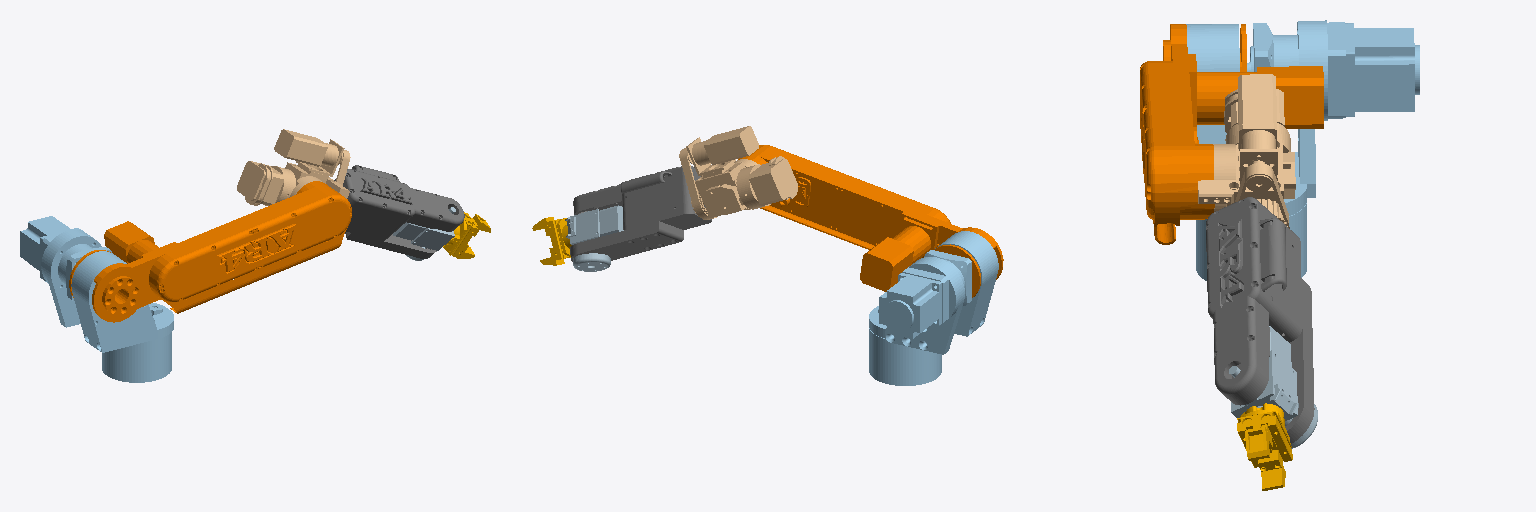
The robot description file, URDF, robot "annin_ar4":
<?xml version="1.0" ?>
<!-- Generated using onshape-to-robot -->
<!-- Onshape https://cad.onshape.com/documents/71a6e6ac5054656ec8ae7be3/w/15da3de6b39094e09f55dc5d/e/b69991727d685d56a05e7c46 -->
<robot name="annin_ar4">
  <!-- Link baseplate -->
  <link name="baseplate">
    <inertial>
      <origin xyz="0 0 0" rpy="0 0 0"/>
      <mass value="1"/>
      <inertia ixx="0" ixy="0" ixz="0" iyy="0" iyz="0" izz="0"/>
    </inertial>
    <!-- Part baseplate_parts -->
    <visual>
      <origin xyz="-0.0994665 0.0173301 0.0783025" rpy="0 -0 0"/>
      <geometry>
        <mesh filename="package://annin_ar4_description/meshes/merged/baseplate_visual.stl"/>
      </geometry>
      <material name="baseplate_parts_material">
        <color rgba="0.600346 0.770857 0.873164 1"/>
      </material>
    </visual>
  </link>
  <!-- Link base_turret_housing -->
  <link name="base_turret_housing">
    <inertial>
      <origin xyz="-0.0463965 -0.0242033 -0.108439" rpy="0 0 0"/>
      <mass value="2.54104"/>
      <inertia ixx="0.011247" ixy="-0.00137444" ixz="-0.00253118" iyy="0.00796204" iyz="-0.00249889" izz="0.00908202"/>
    </inertial>
    <!-- Part base_turret_housing_parts -->
    <visual>
      <origin xyz="-0.0463965 -0.0242033 -0.108439" rpy="3.14159 5.93e-10 0"/>
      <geometry>
        <mesh filename="package://annin_ar4_description/meshes/merged/base_turret_housing_visual.stl"/>
      </geometry>
      <material name="base_turret_housing_parts_material">
        <color rgba="0.657064 0.826274 0.9278 1"/>
      </material>
    </visual>
  </link>
  <!-- Link link_2_part -->
  <link name="link_2_part">
    <inertial>
      <origin xyz="-0.00116151 0.132932 0.00571963" rpy="0 0 0"/>
      <mass value="0.825114"/>
      <inertia ixx="0.00889311" ixy="7.73405e-05" ixz="-3.25413e-05" iyy="0.00144092" iyz="0.00126456" izz="0.00802357"/>
    </inertial>
    <!-- Part link_2_part_parts -->
    <visual>
      <origin xyz="-0.00116151 0.132932 0.00571963" rpy="1.5708 0.0215588 1.71453"/>
      <geometry>
        <mesh filename="package://annin_ar4_description/meshes/merged/link_2_part_visual.stl"/>
      </geometry>
      <material name="link_2_part_parts_material">
        <color rgba="0.972549 0.529412 0.00392157 1"/>
      </material>
    </visual>
  </link>
  <!-- Link link_6_motor -->
  <link name="link_6_motor">
    <inertial>
      <origin xyz="0.0197598 5.56097e-05 -0.0315536" rpy="0 0 0"/>
      <mass value="0.841792"/>
      <inertia ixx="0.00124667" ixy="-0.000204798" ixz="6.32921e-05" iyy="0.000894058" iyz="2.48385e-05" izz="0.00171936"/>
    </inertial>
    <!-- Part link_6_motor_parts -->
    <visual>
      <origin xyz="0.0197598 5.56097e-05 -0.0315536" rpy="-1.5708 -0.0215588 -1.71453"/>
      <geometry>
        <mesh filename="package://annin_ar4_description/meshes/merged/link_6_motor_visual.stl"/>
      </geometry>
      <material name="link_6_motor_parts_material">
        <color rgba="0.92179 0.779841 0.611513 1"/>
      </material>
    </visual>
  </link>
  <!-- Link endeffector_part -->
  <link name="endeffector_part">
    <inertial>
      <origin xyz="0.00100316 0.00252412 -0.083018" rpy="0 0 0"/>
      <mass value="0.712121"/>
      <inertia ixx="0.0022091" ixy="-0.000150932" ixz="-5.41463e-05" iyy="0.00207453" iyz="-9.35525e-05" izz="0.000725561"/>
    </inertial>
    <!-- Part endeffector_part_parts -->
    <visual>
      <origin xyz="0.00100316 0.00252412 -0.083018" rpy="-0.0442752 1.11747 1.52155"/>
      <geometry>
        <mesh filename="package://annin_ar4_description/meshes/merged/endeffector_part_visual.stl"/>
      </geometry>
      <material name="endeffector_part_parts_material">
        <color rgba="0.498039 0.498039 0.498039 1"/>
      </material>
    </visual>
  </link>
  <!-- Link gripper_motor -->
  <link name="gripper_motor">
    <inertial>
      <origin xyz="-0.014351 -0.00023186 0.0474159" rpy="0 0 0"/>
      <mass value="0.314103"/>
      <inertia ixx="0.000122328" ixy="1.55585e-06" ixz="-1.85202e-05" iyy="0.00021925" iyz="-4.99692e-07" izz="0.000172846"/>
    </inertial>
    <!-- Part gripper_motor_parts -->
    <visual>
      <origin xyz="-0.014351 -0.00023186 0.0474159" rpy="2.47953 0.378016 -0.256483"/>
      <geometry>
        <mesh filename="package://annin_ar4_description/meshes/merged/gripper_motor_visual.stl"/>
      </geometry>
      <material name="gripper_motor_parts_material">
        <color rgba="0.69002 0.773489 0.820789 1"/>
      </material>
    </visual>
  </link>
  <!-- Link gripper_part -->
  <link name="gripper_part">
    <inertial>
      <origin xyz="6.26549e-06 0.000241513 -0.0230231" rpy="0 0 0"/>
      <mass value="0.115892"/>
      <inertia ixx="2.78554e-05" ixy="-7.6839e-08" ixz="-1.941e-09" iyy="4.28172e-05" iyz="-5.34906e-07" izz="3.11918e-05"/>
    </inertial>
    <!-- Part gripper_part_parts -->
    <visual>
      <origin xyz="6.26549e-06 0.000241513 -0.0230231" rpy="-0.040189 1.11632 -2.89739"/>
      <geometry>
        <mesh filename="package://annin_ar4_description/meshes/merged/gripper_part_visual.stl"/>
      </geometry>
      <material name="gripper_part_parts_material">
        <color rgba="0.980392 0.713725 0.00392157 1"/>
      </material>
    </visual>
  </link>
  <!-- Joint from gripper_motor to gripper_part -->
  <joint name="endeffector" type="revolute">
    <origin xyz="0.019 4.04422e-05 0.0433" rpy="-1.5708 -1.24286 1.57292"/>
    <parent link="gripper_motor"/>
    <child link="gripper_part"/>
    <axis xyz="0 0 1"/>
    <limit effort="10" velocity="10" lower="-3.141592653589793" upper="3.141592653589793"/>
  </joint>
  <!-- Joint from endeffector_part to gripper_motor -->
  <joint name="endeffector_mount" type="revolute">
    <origin xyz="0.0254835 0.0358691 -0.172" rpy="2.18851 1.5708 0"/>
    <parent link="endeffector_part"/>
    <child link="gripper_motor"/>
    <axis xyz="0 0 1"/>
    <limit effort="10" velocity="10" lower="-2.09652" upper="2.09227"/>
  </joint>
  <!-- Joint from link_6_motor to endeffector_part -->
  <joint name="link3_to_end_effector_mount" type="revolute">
    <origin xyz="-0.0284498 -0.0418916 -0.0362" rpy="-2.16738 -1.5708 0"/>
    <parent link="link_6_motor"/>
    <child link="endeffector_part"/>
    <axis xyz="0 0 1"/>
    <limit effort="10" velocity="10" lower="-3.141592653589793" upper="3.141592653589793"/>
  </joint>
  <!-- Joint from link_2_part to link_6_motor -->
  <joint name="link2_to_link3" type="revolute">
    <origin xyz="0 0.305 0.015" rpy="3.14159 -0 0"/>
    <parent link="link_2_part"/>
    <child link="link_6_motor"/>
    <axis xyz="0 0 1"/>
    <limit effort="10" velocity="10" lower="-3.141592653589793" upper="3.141592653589793"/>
  </joint>
  <!-- Joint from base_turret_housing to link_2_part -->
  <joint name="link1_to_link2" type="revolute">
    <origin xyz="-0.0630431 0.0518211 -0.143075" rpy="-1.5708 1.42706 3.12003"/>
    <parent link="base_turret_housing"/>
    <child link="link_2_part"/>
    <axis xyz="0 0 1"/>
    <limit effort="10" velocity="10" lower="-3.141592653589793" upper="3.141592653589793"/>
  </joint>
  <!-- Joint from baseplate to base_turret_housing -->
  <joint name="base_to_link1" type="revolute">
    <origin xyz="0.0716069 0.0168825 0.0570797" rpy="-3.14159 5.93e-10 0"/>
    <parent link="baseplate"/>
    <child link="base_turret_housing"/>
    <axis xyz="0 0 1"/>
    <limit effort="10" velocity="10" lower="-3.141592653589793" upper="3.141592653589793"/>
  </joint>
</robot>

--- Render facts (derived) ---
3 views of the same robot in one strip: view 1: azimuth 30°, elevation 25°; view 2: azimuth 150°, elevation 25°; view 3: azimuth 270°, elevation 25° (orthographic).
Robot: annin_ar4 — 7 links, 6 joints (6 revolute); root link baseplate; default pose: all joints at 0.
Visible links, largest first — view 1: link_2_part, base_turret_housing, endeffector_part, link_6_motor, gripper_motor, gripper_part; view 2: link_2_part, base_turret_housing, link_6_motor, endeffector_part, gripper_motor, gripper_part; view 3: endeffector_part, base_turret_housing, link_2_part, link_6_motor, gripper_part, gripper_motor.
Link boxes in pixels (box(x1,y1,x2,y2)): link_2_part: box(69, 181, 351, 322); base_turret_housing: box(20, 216, 173, 382); endeffector_part: box(334, 165, 464, 258); link_6_motor: box(237, 129, 350, 205); gripper_motor: box(393, 207, 455, 260); gripper_part: box(443, 212, 490, 258); link_2_part: box(738, 145, 1003, 297); base_turret_housing: box(869, 231, 998, 385); link_6_motor: box(679, 126, 797, 219); endeffector_part: box(570, 166, 711, 261); gripper_motor: box(565, 205, 623, 271); gripper_part: box(532, 217, 571, 265); endeffector_part: box(1206, 197, 1314, 443); base_turret_housing: box(1186, 20, 1419, 280); link_2_part: box(1140, 24, 1323, 244); link_6_motor: box(1198, 74, 1295, 228); gripper_part: box(1237, 403, 1292, 490); gripper_motor: box(1229, 326, 1317, 448).
Bounding box of the posed robot: 0.6236 × 0.2241 × 0.2747 m (x, y, z).
6 mesh visuals loaded from 7 distinct referenced files (6 binary STL); not drawn: 1 (reference not matched to a file when rendering).
